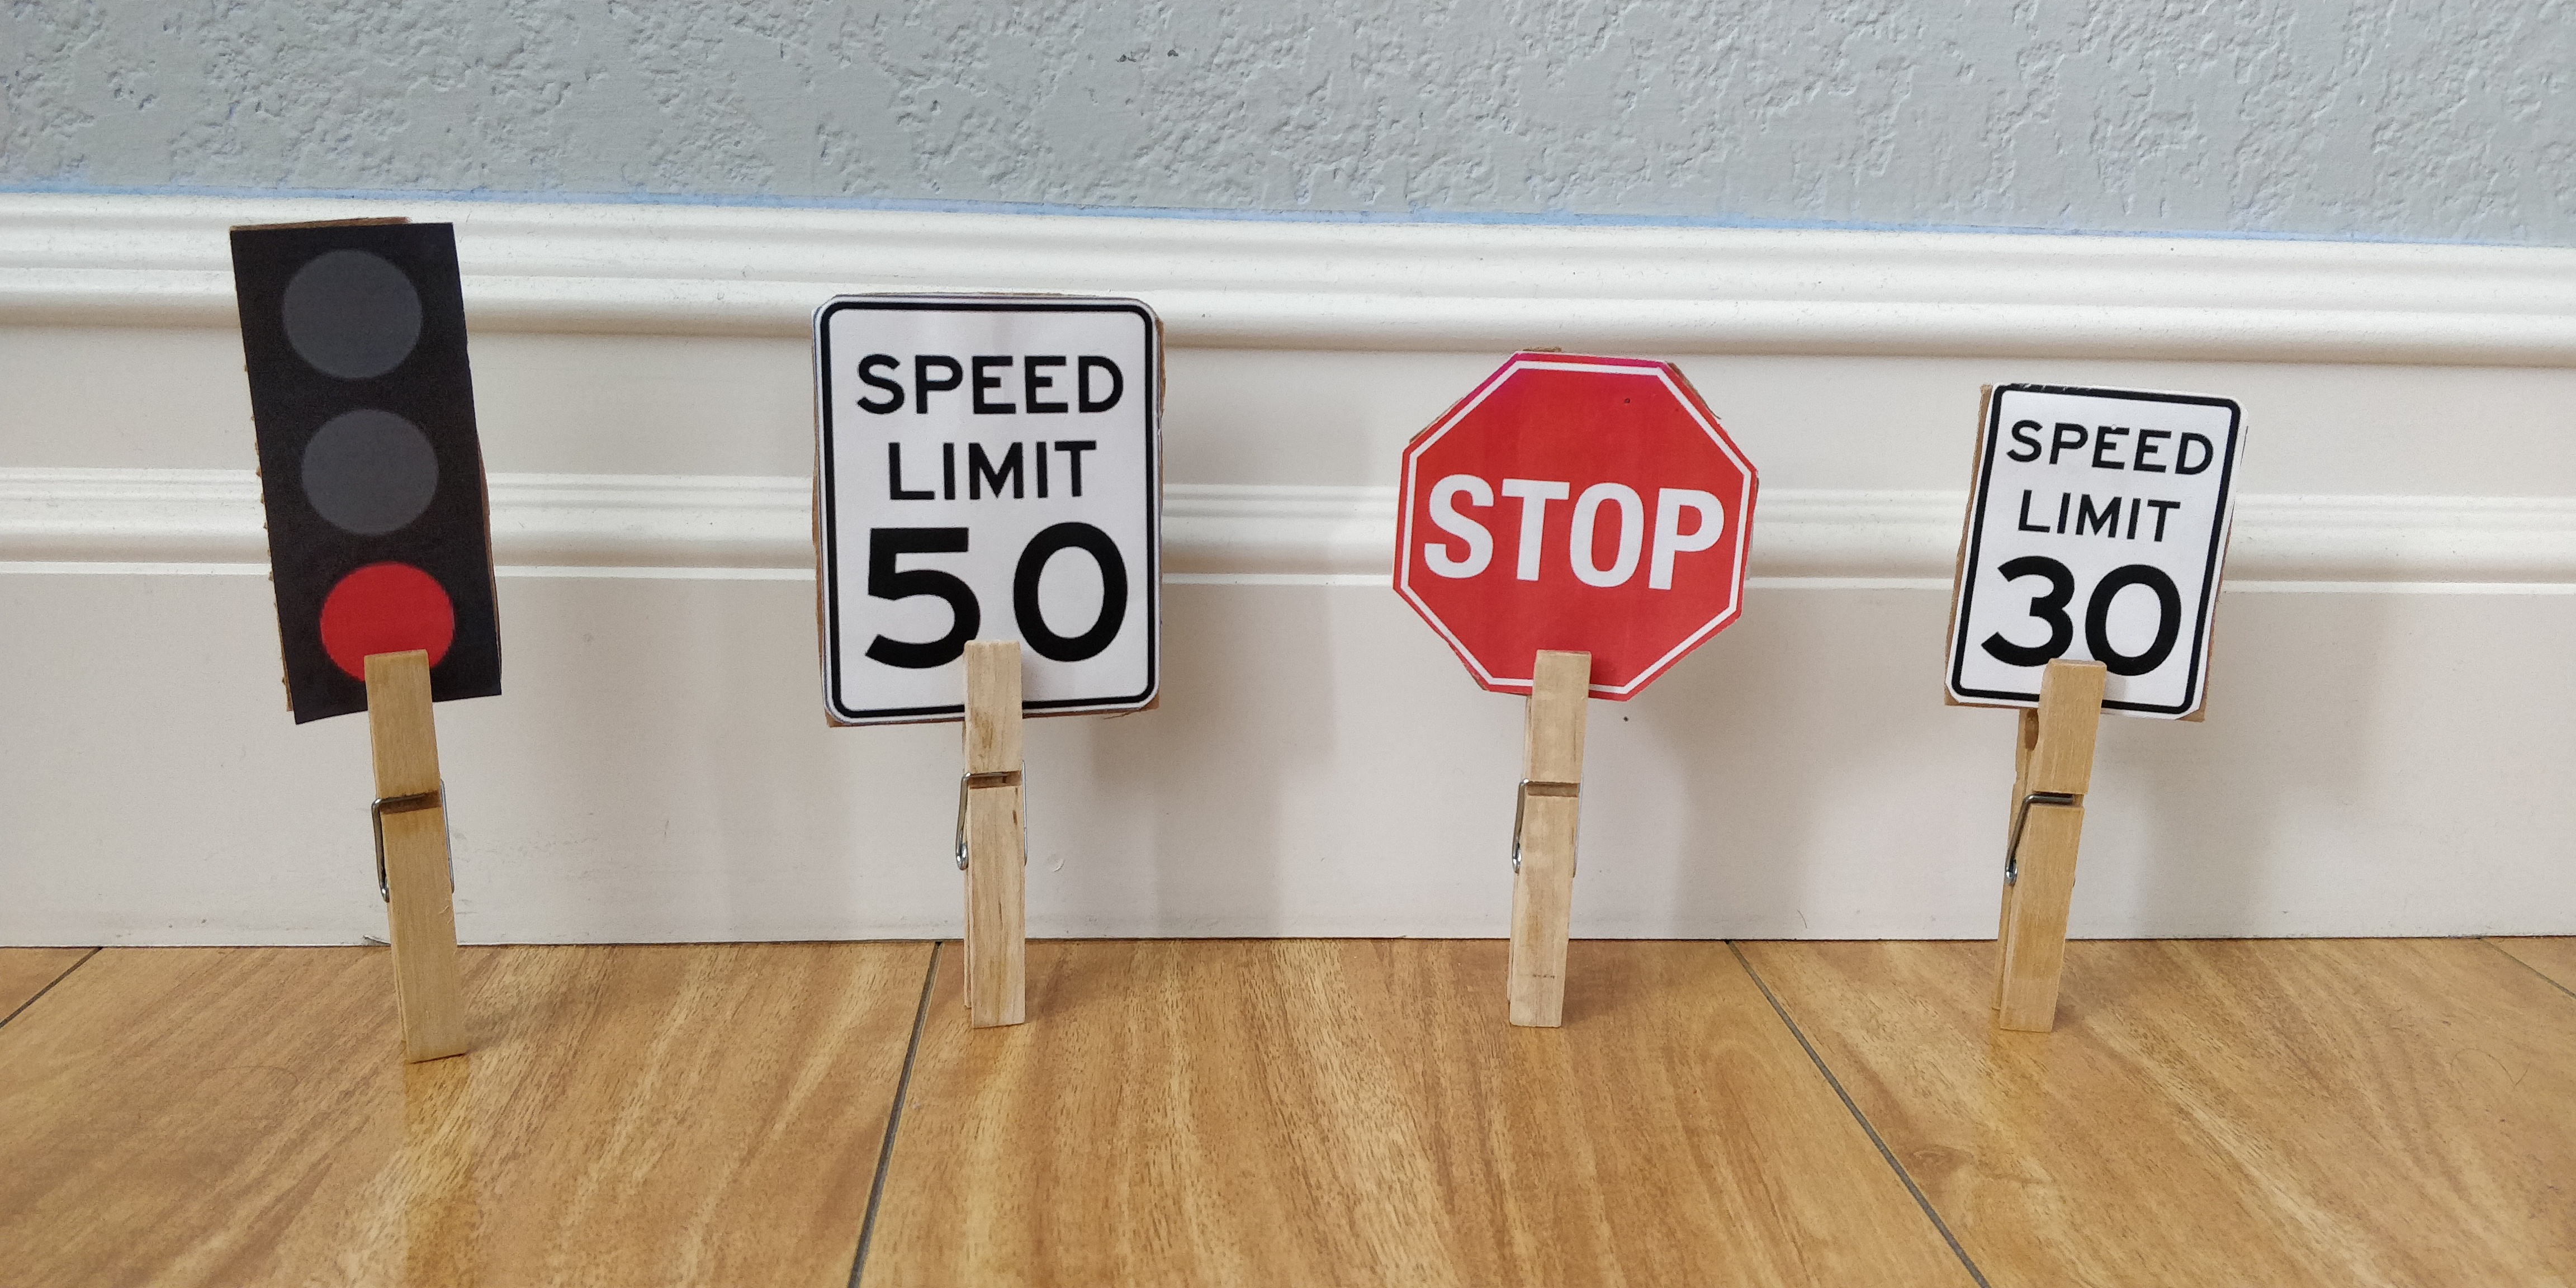Speed Limit 30: (1944, 383, 2251, 723)
Speed Limit 50: (823, 292, 1165, 726)
Stop Sign: (1392, 358, 1758, 701)
red light: (223, 215, 503, 721)
